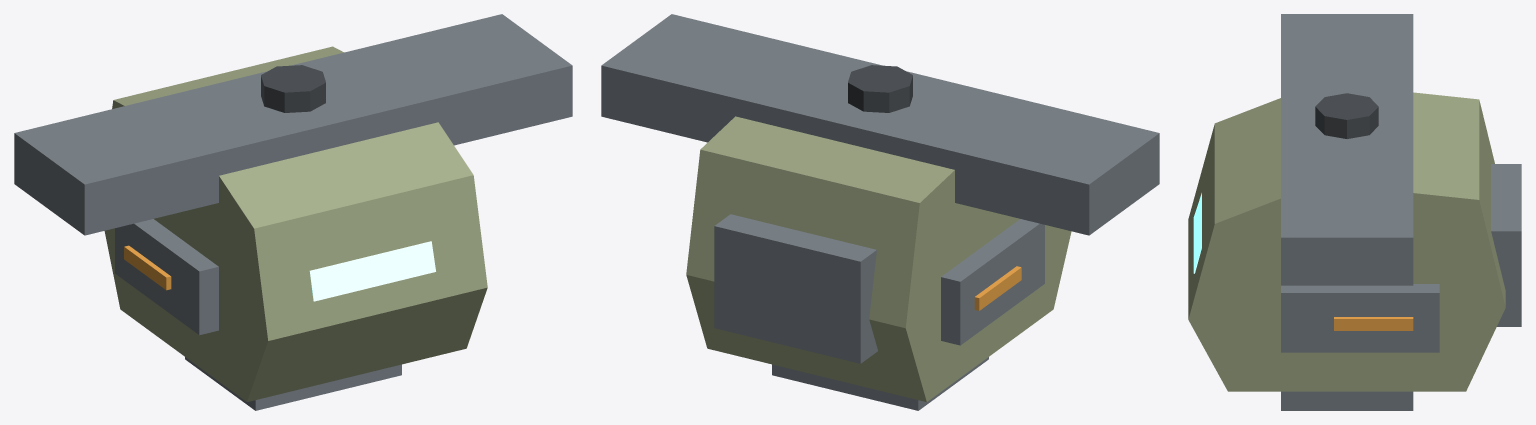
File: mech-hangar-and-battle-frames-hopper-torso-92ca07f2__26801.glb
3 views of the same model, side by side, from view 1: azimuth 30°, elevation 25°; view 2: azimuth 150°, elevation 25°; view 3: azimuth 270°, elevation 25° (orthographic). The views are drawn at different scales.
Parts seen in each view (by area): view 1: hopper-torso; view 2: hopper-torso; view 3: hopper-torso.
Boxes of the visible parts, bbox=[...] form: hopper-torso: bbox=[14, 14, 572, 410]; hopper-torso: bbox=[601, 14, 1159, 410]; hopper-torso: bbox=[1188, 14, 1521, 410].
Bounding box in the file's own units: 2 × 1.13 × 1.26.
